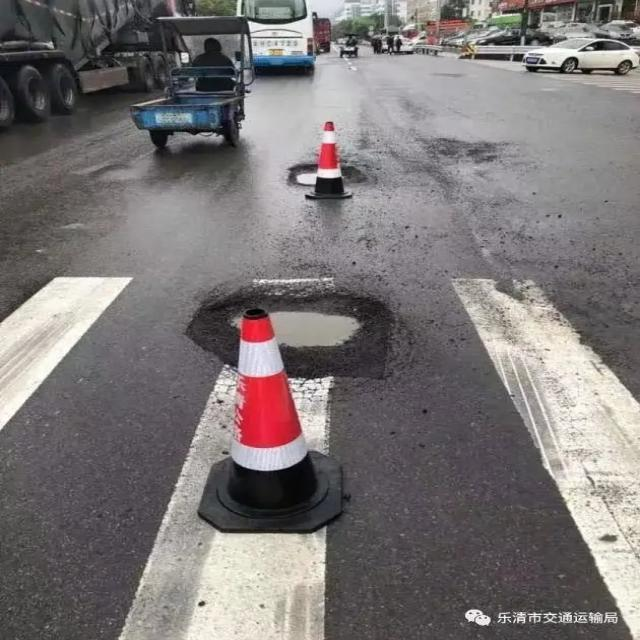Buraco: (182, 282, 408, 384), (284, 162, 368, 188)
